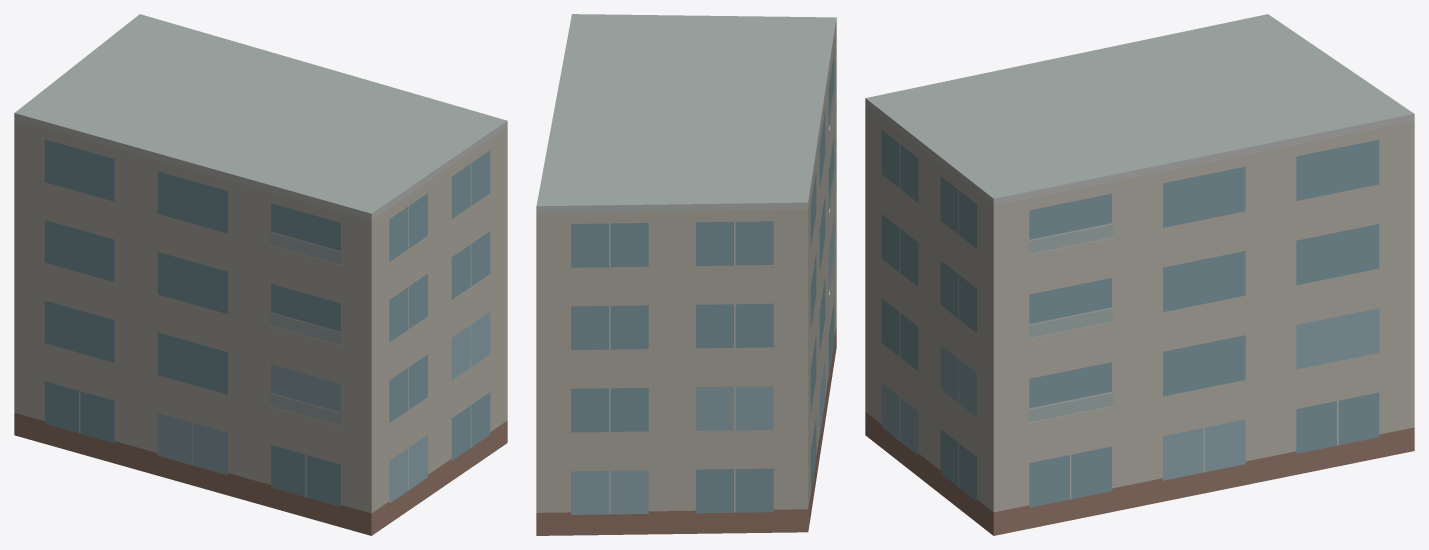
The model's file is survey-upis-32793380.glb.
3 views of the same model, side by side, from view 1: azimuth 30°, elevation 25°; view 2: azimuth 150°, elevation 25°; view 3: azimuth 270°, elevation 25° (orthographic). The views are drawn at different scales.
Visible parts, largest first — view 1: survey-upis-32793380.tmp; view 2: survey-upis-32793380.tmp; view 3: survey-upis-32793380.tmp.
Part boxes in pixels (x1=…): survey-upis-32793380.tmp: x1=14, y1=14, x2=507, y2=535; survey-upis-32793380.tmp: x1=536, y1=14, x2=836, y2=535; survey-upis-32793380.tmp: x1=865, y1=14, x2=1414, y2=535.
Size of the model in its own units: 13.77 by 11.7 by 17.28.
